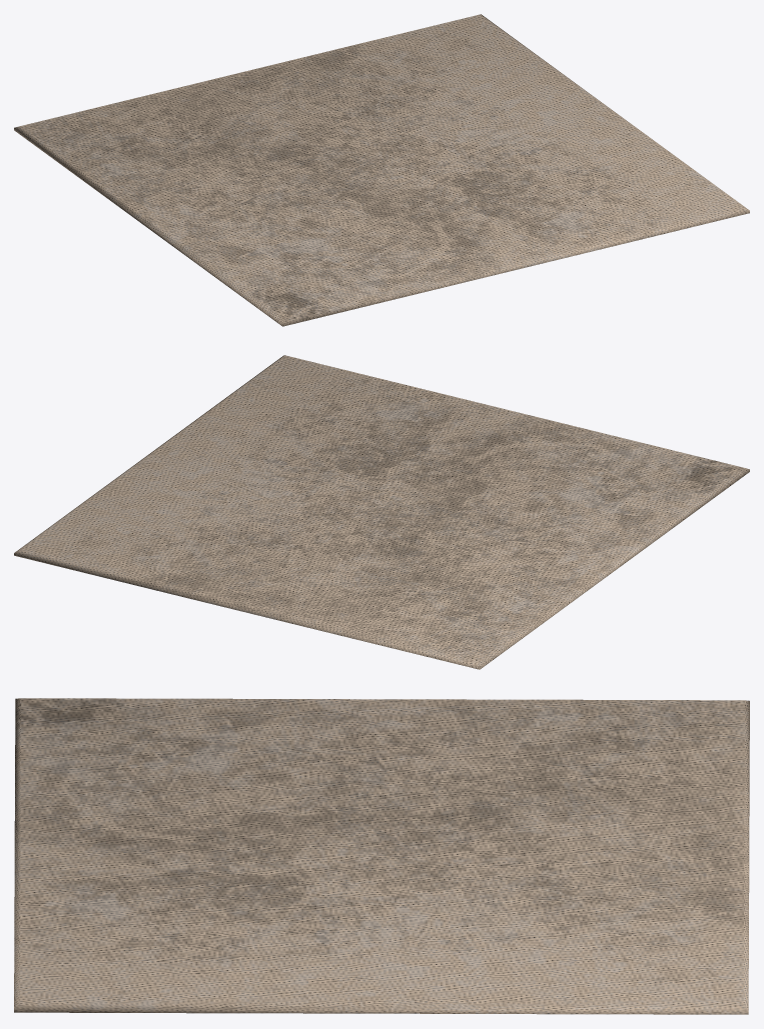
File: rugs_and_pillows_square_rug.fbx
The picture shows the model from 3 angles, top to bottom: view 1: azimuth 30°, elevation 25°; view 2: azimuth 150°, elevation 25°; view 3: azimuth 270°, elevation 25°; orthographic projection. The views are drawn at different scales.
Parts seen in each view (by area): view 1: Plane.001; view 2: Plane.001; view 3: Plane.001.
Part boxes in pixels (left/top/right/bottom): Plane.001: left=14, top=14, right=749, bottom=326; Plane.001: left=14, top=355, right=749, bottom=669; Plane.001: left=14, top=698, right=749, bottom=1014.
Size of the model in its own units: 236 by 2.81 by 236.
